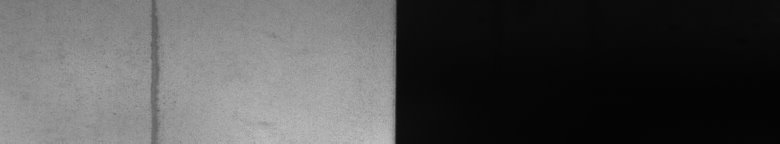hd: (136, 4, 164, 136)
